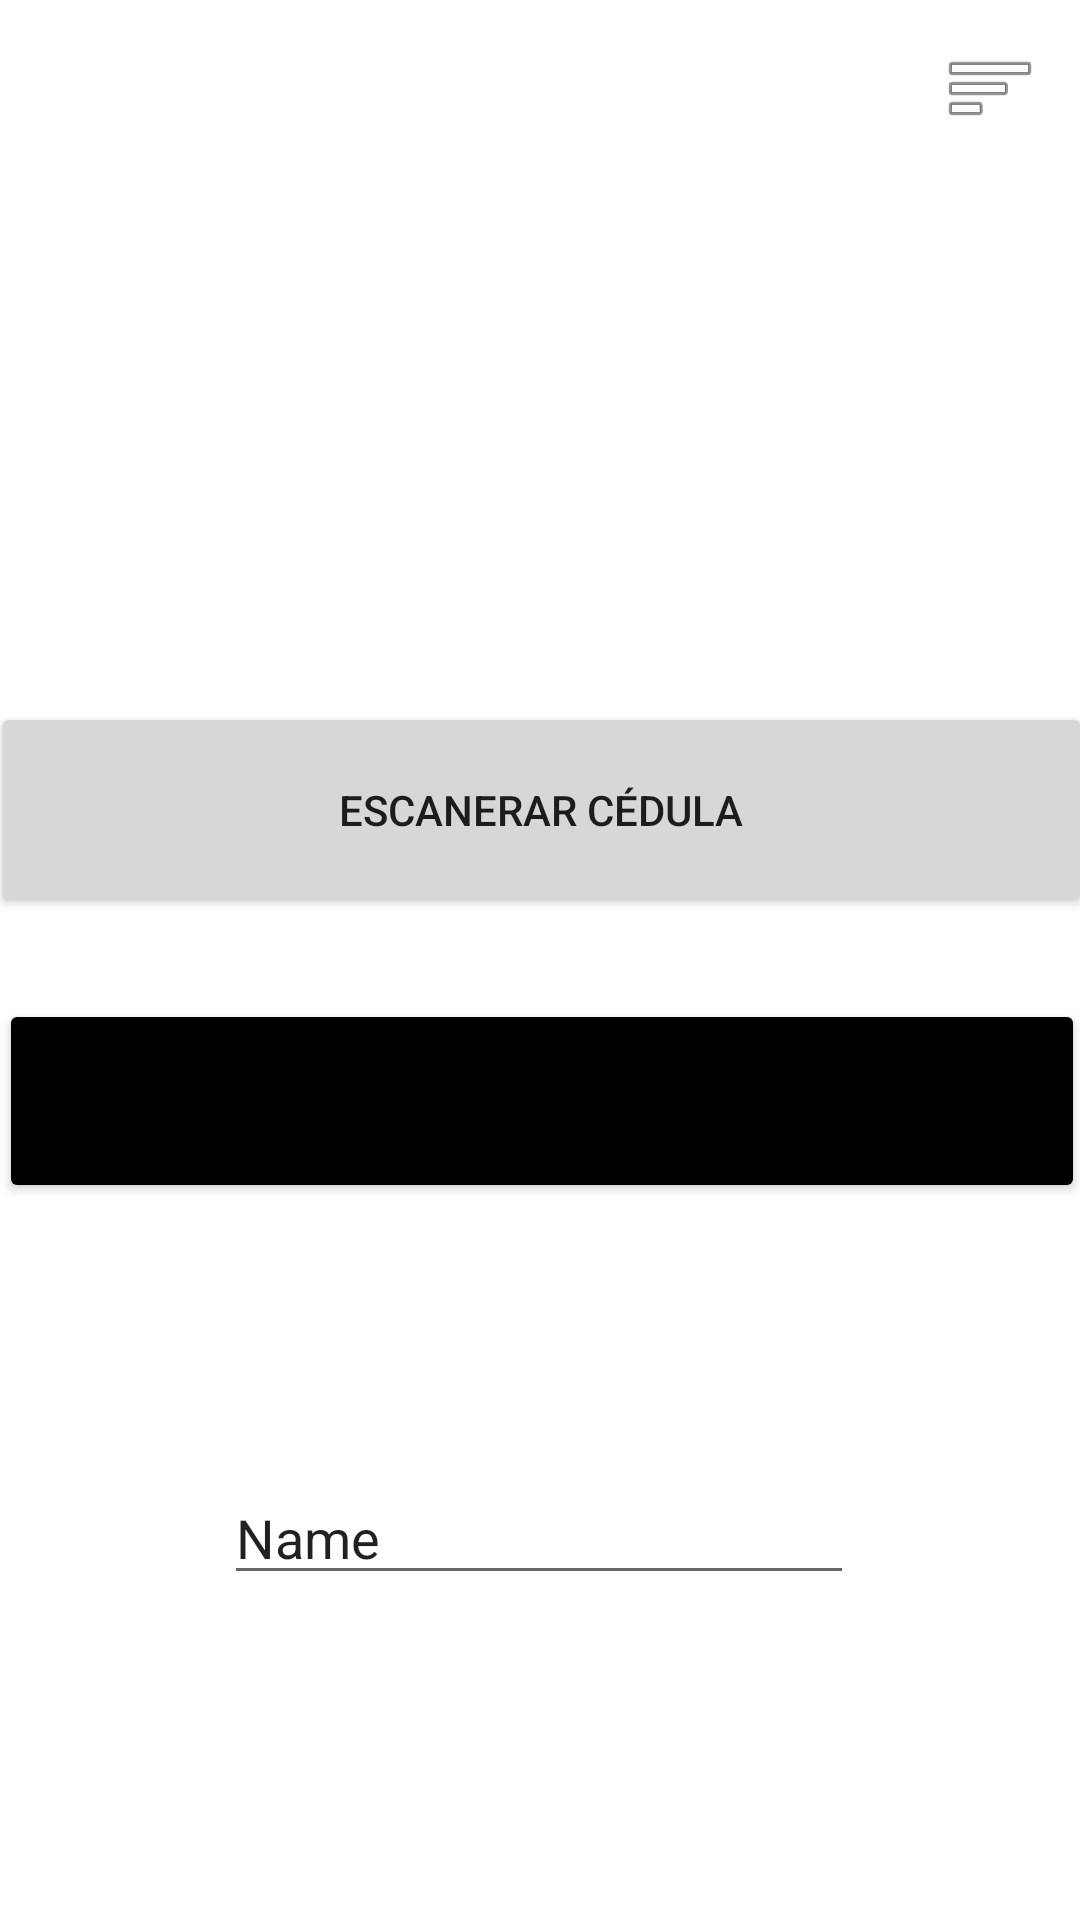

Named icons in this screenshot (1080px x 1920px) and their centers, (x=x, y=y):
sort by size: (x=990, y=88)
